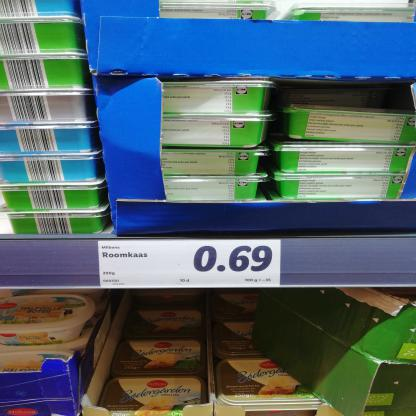prtg: (99, 241, 281, 288)
